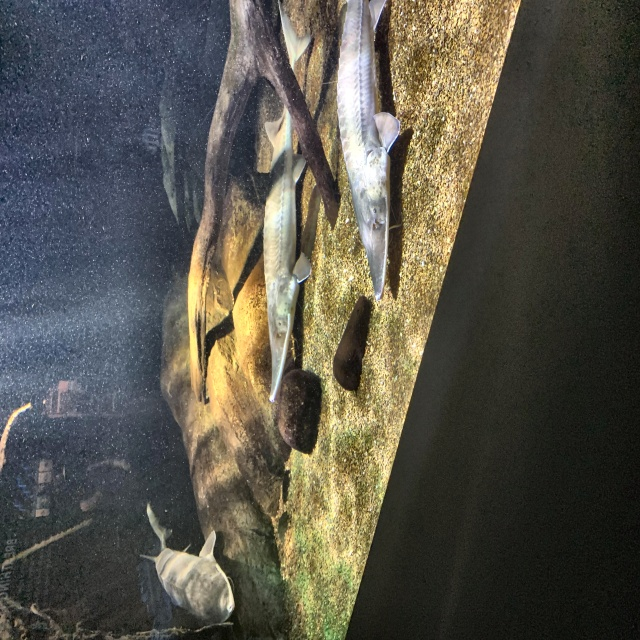fish: (255, 1, 313, 404), (337, 0, 401, 301)
shark: (139, 503, 237, 629)
